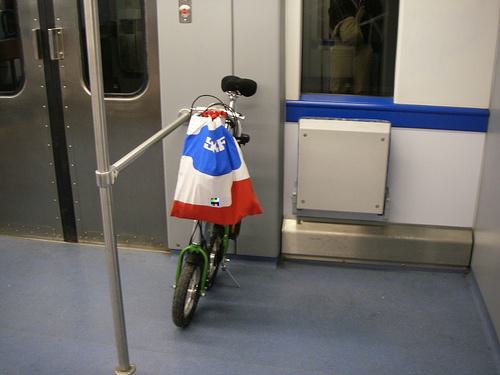car: (170, 74, 261, 331)
